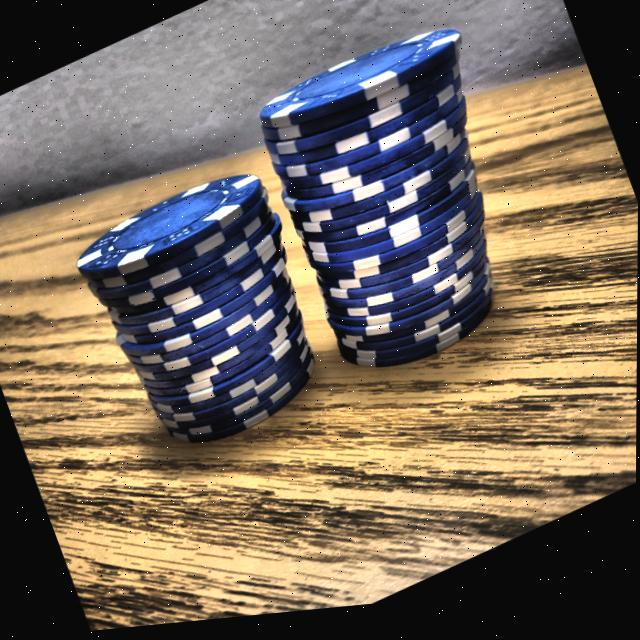Chip: (245, 2, 561, 403), (56, 137, 356, 493)
